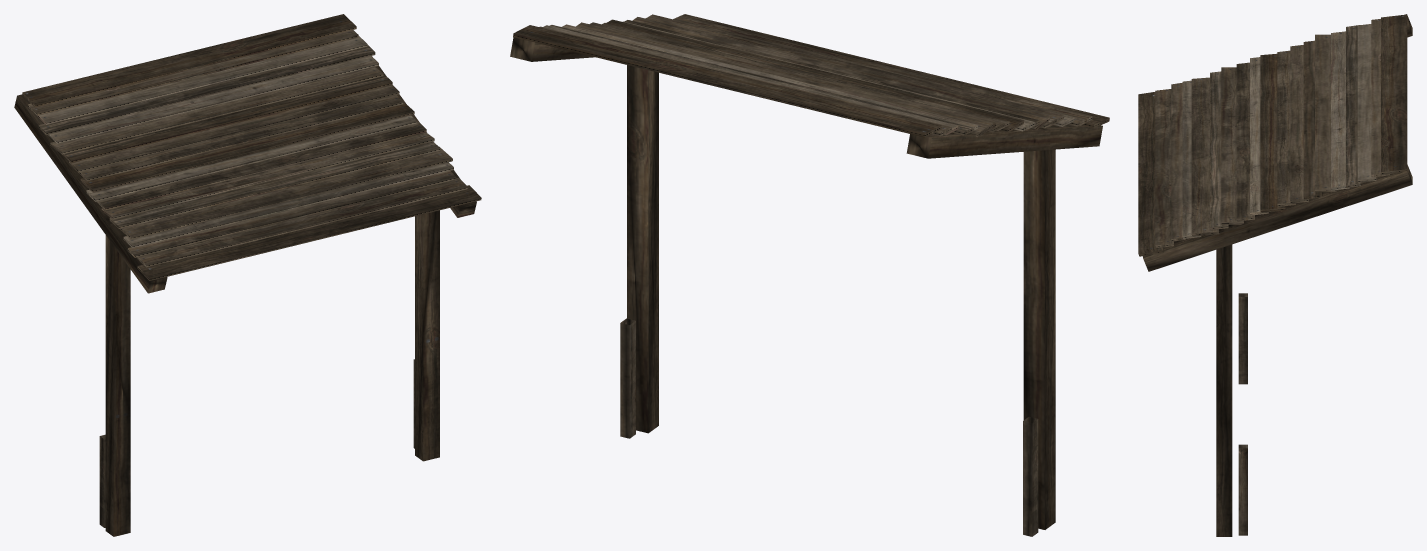
File: V2 Frame Roof.fbx
3 renders of one model, left to right at view 1: azimuth 30°, elevation 25°; view 2: azimuth 150°, elevation 25°; view 3: azimuth 270°, elevation 25°, orthographic. The views are drawn at different scales.
Visible parts, largest first — view 1: Roof, Posts; view 2: Roof, Posts; view 3: Roof, Posts.
Part boxes in pixels (x1,y1,x2,y2): Roof: [14, 14, 481, 293]; Posts: [99, 210, 439, 536]; Roof: [510, 14, 1109, 158]; Posts: [620, 65, 1055, 536]; Roof: [1138, 14, 1412, 271]; Posts: [1216, 244, 1247, 536].
Size of the model in its own units: 2.92 by 3.13 by 2.11.
1 material, 1 textured.
